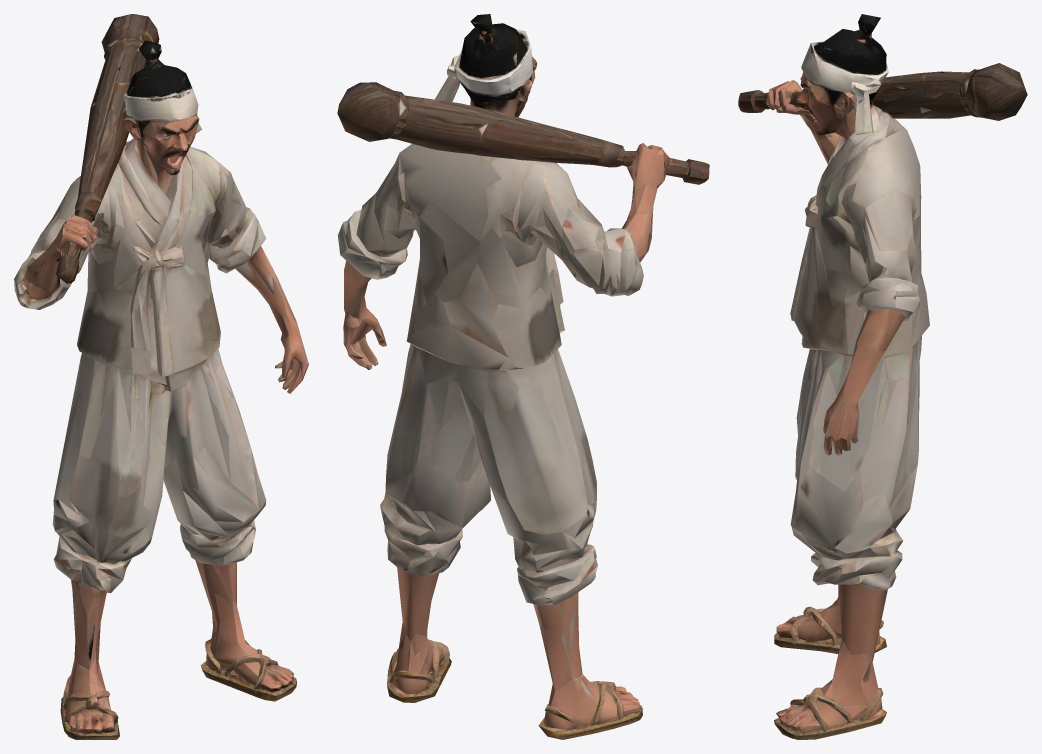
Rendered from rioter_town.glb.
3 views of the same model, side by side, from view 1: azimuth 30°, elevation 25°; view 2: azimuth 150°, elevation 25°; view 3: azimuth 270°, elevation 25° (orthographic). The views are drawn at different scales.
Size of the model in its own units: 0.8952 by 1.89 by 0.7397.
Materials: 1 (1 with a texture image).
